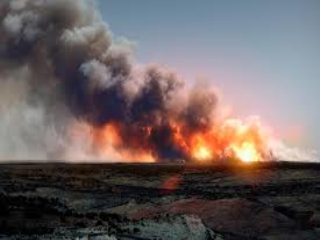fire: (183, 123, 275, 166), (97, 126, 155, 164)
smoke: (19, 12, 218, 139)
